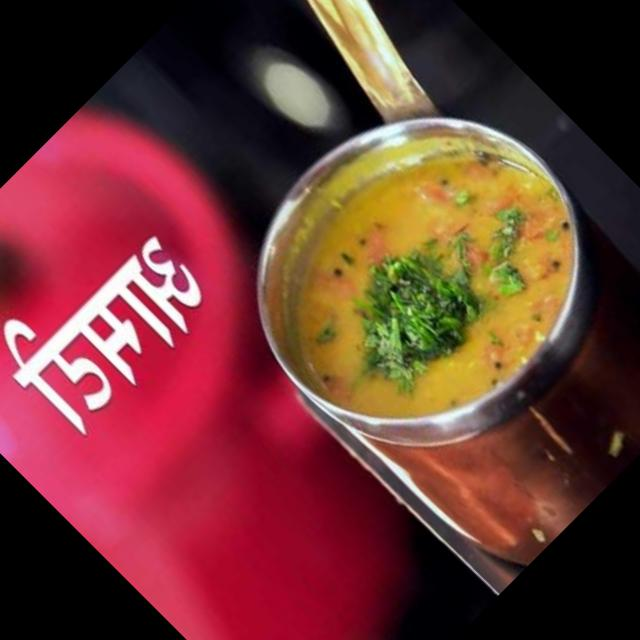dal: (228, 82, 624, 477)
